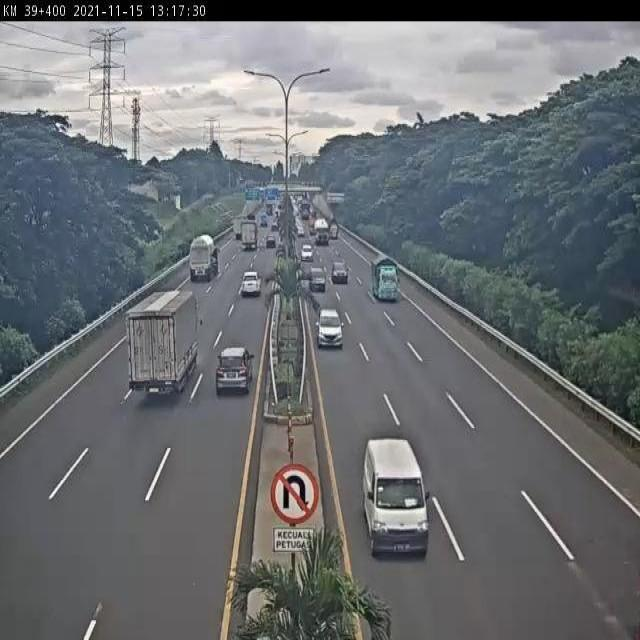Car: (215, 346, 255, 395), (315, 309, 344, 349), (241, 271, 262, 298), (310, 266, 326, 292), (331, 260, 348, 284), (300, 244, 314, 262), (266, 232, 276, 248), (329, 223, 338, 240), (296, 227, 306, 238), (271, 222, 280, 232)
Truck: (123, 290, 204, 400), (370, 254, 401, 303), (189, 234, 218, 281), (240, 218, 258, 250), (314, 218, 329, 245), (232, 214, 246, 240), (301, 200, 310, 220), (260, 214, 268, 226)
Van: (363, 438, 430, 560)
